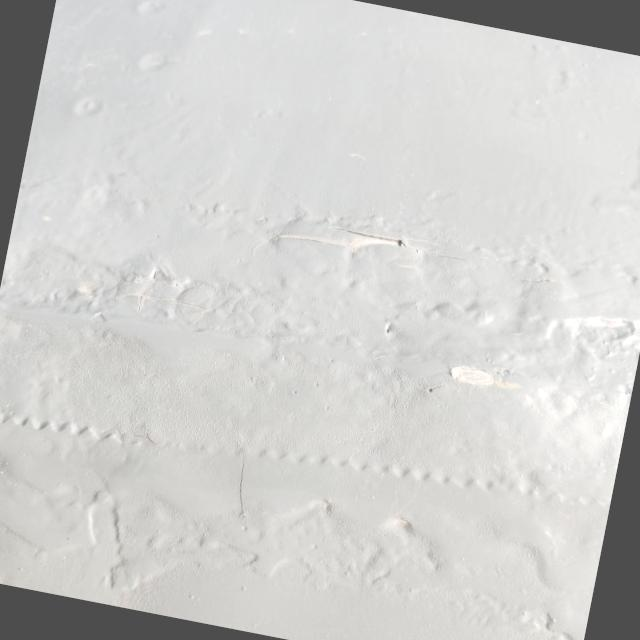crack: (256, 198, 476, 290), (108, 250, 223, 334), (220, 442, 268, 526)
paint-off: (438, 348, 534, 410)
